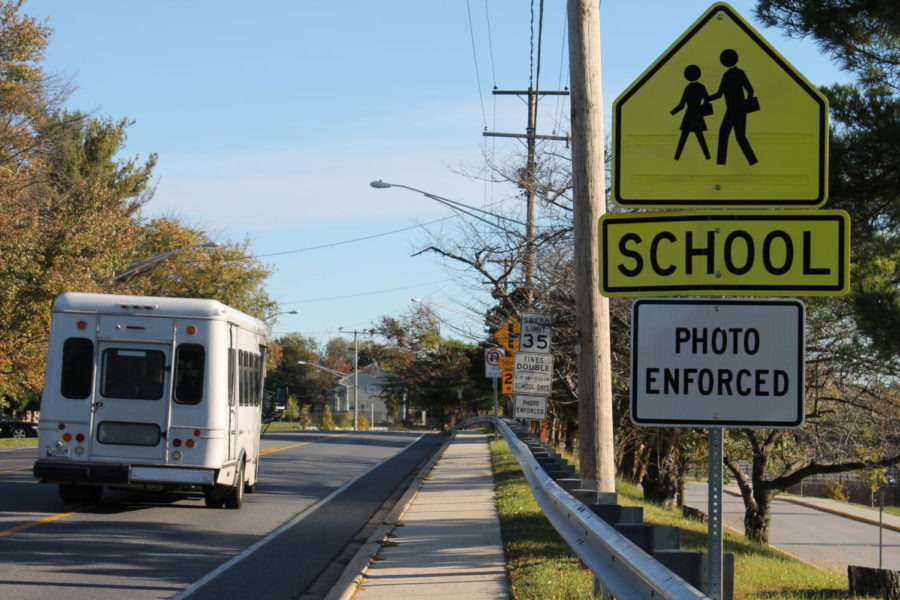slow: (612, 1, 832, 208)
